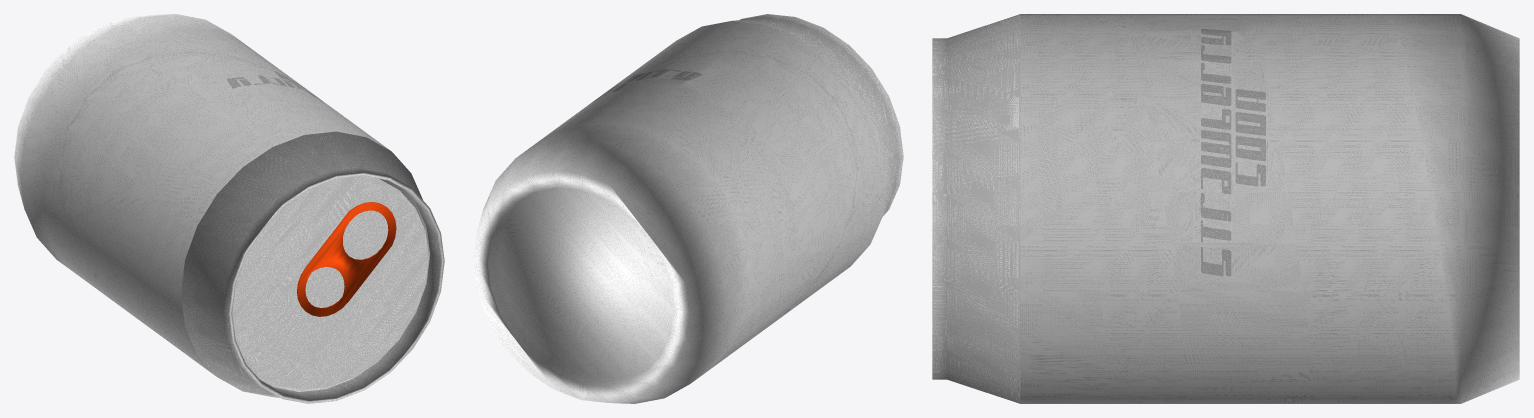
The model's file is model_align.obj.
The picture shows the model from 3 angles, left to right: view 1: azimuth 30°, elevation 25°; view 2: azimuth 150°, elevation 25°; view 3: azimuth 270°, elevation 25°; orthographic projection. The views are drawn at different scales.
Parts seen in each view (by area): view 1: mesh1_mesh1-geometry; view 2: mesh1_mesh1-geometry; view 3: mesh1_mesh1-geometry.
Part boxes in pixels (bbox=[...]): mesh1_mesh1-geometry: bbox=[14, 14, 444, 403]; mesh1_mesh1-geometry: bbox=[473, 14, 903, 403]; mesh1_mesh1-geometry: bbox=[932, 14, 1519, 403].
Bounding box in the file's own units: 0.0705 × 0.0705 × 0.1057.
